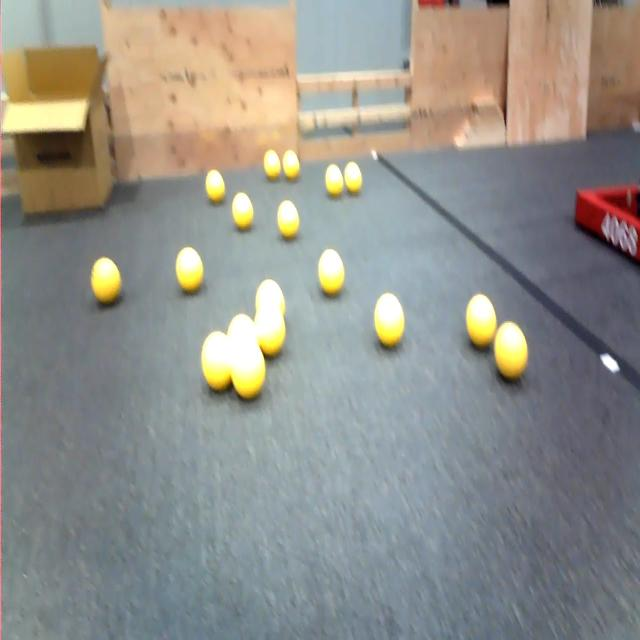fuel: (166, 228, 214, 310), (82, 234, 131, 300), (195, 323, 234, 402), (311, 235, 351, 312), (228, 330, 267, 404), (490, 313, 531, 383), (459, 286, 500, 353), (249, 305, 292, 363), (373, 292, 407, 353), (272, 190, 309, 244), (254, 276, 296, 320), (226, 186, 258, 237), (201, 162, 230, 206), (280, 137, 306, 183), (257, 138, 281, 184), (344, 159, 368, 198), (321, 160, 347, 196), (224, 313, 257, 337)
